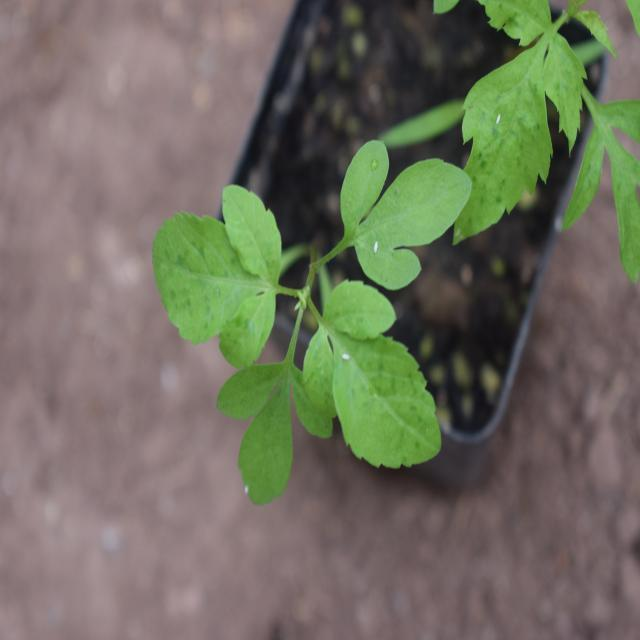Bidens pilosa: (137, 117, 480, 494)
